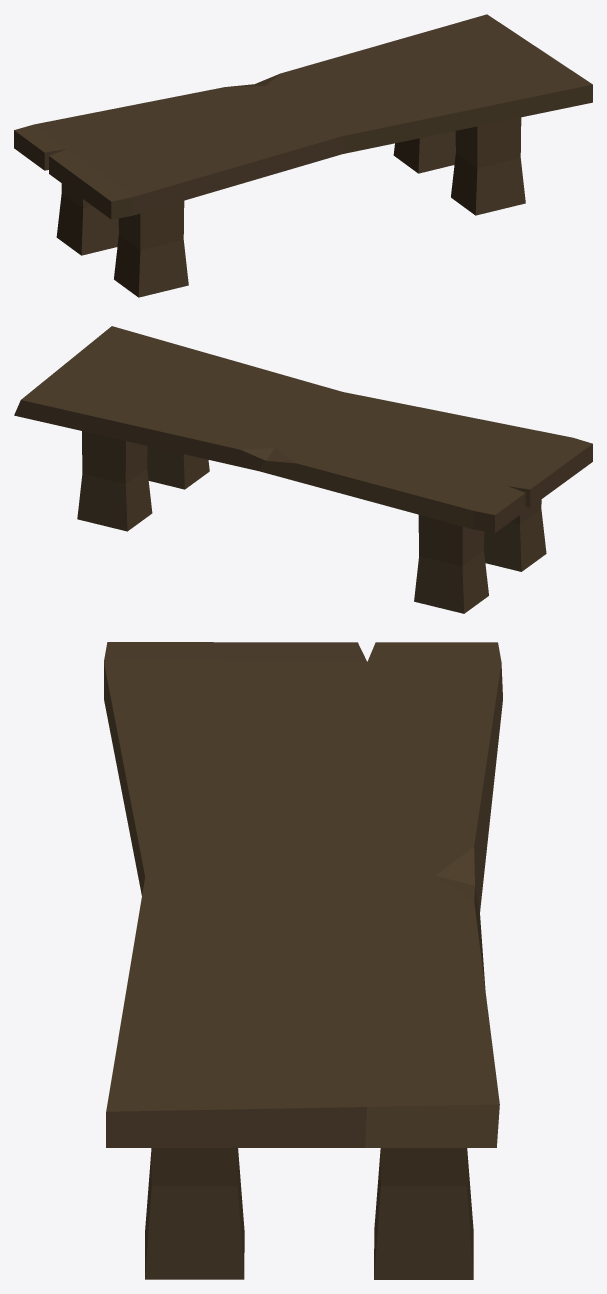
The model's file is Benchlong chair_2.fbx.
3 renders of one model, top to bottom at view 1: azimuth 30°, elevation 25°; view 2: azimuth 150°, elevation 25°; view 3: azimuth 270°, elevation 25°, orthographic. The views are drawn at different scales.
Parts seen in each view (by area): view 1: Benchlong chair_2; view 2: Benchlong chair_2; view 3: Benchlong chair_2.
Part boxes in pixels (x1,y1,x2,y2): Benchlong chair_2: (14,14,592,297); Benchlong chair_2: (14,326,592,613); Benchlong chair_2: (104,642,502,1279).
Size of the model in its own units: 219 by 48.72 by 78.48.
